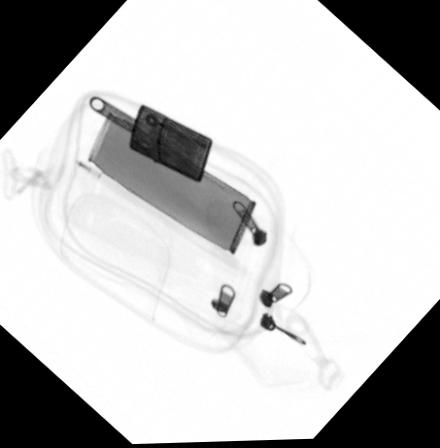Lighter: (127, 102, 213, 184)
